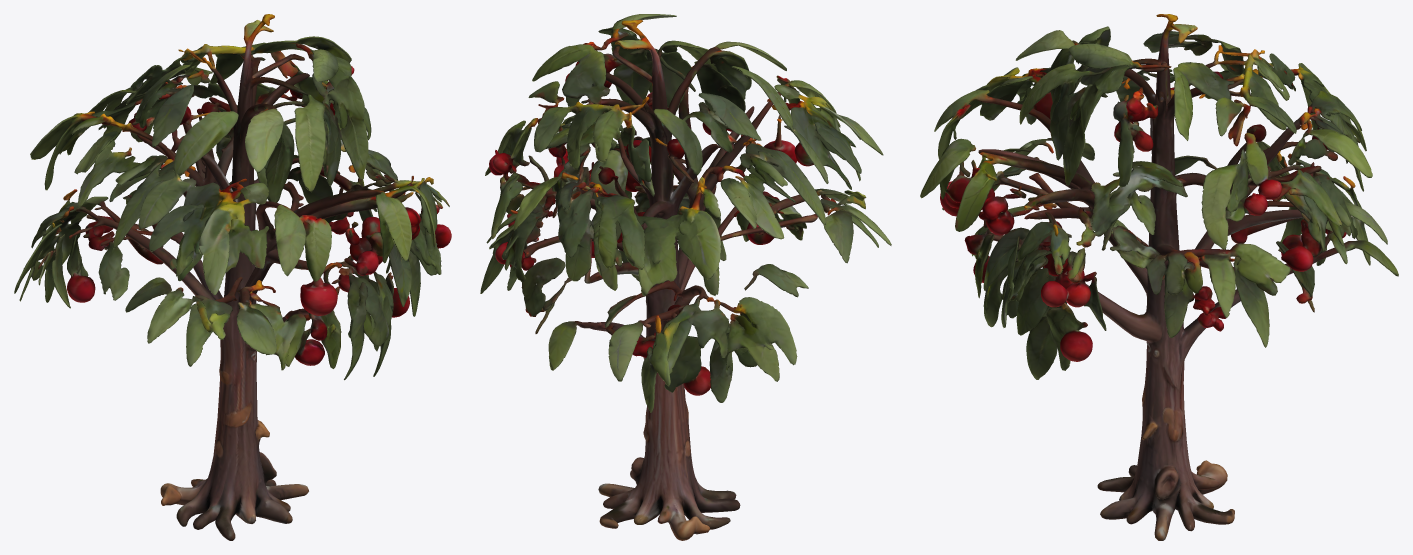
File: nature-tree-cherry.glb
3 renders of one model, left to right at view 1: azimuth 30°, elevation 25°; view 2: azimuth 150°, elevation 25°; view 3: azimuth 270°, elevation 25°, orthographic. The views are drawn at different scales.
Visible parts, largest first — view 1: tripo_node_45f7b6af-17fc-4bf0-af39-2dadda0ac1e1; view 2: tripo_node_45f7b6af-17fc-4bf0-af39-2dadda0ac1e1; view 3: tripo_node_45f7b6af-17fc-4bf0-af39-2dadda0ac1e1.
Part boxes in pixels (box(x1,y1,x2,y2)): tripo_node_45f7b6af-17fc-4bf0-af39-2dadda0ac1e1: box(14, 14, 451, 540); tripo_node_45f7b6af-17fc-4bf0-af39-2dadda0ac1e1: box(480, 14, 891, 540); tripo_node_45f7b6af-17fc-4bf0-af39-2dadda0ac1e1: box(920, 14, 1398, 540).
Size of the model in its own units: 4.38 by 6 by 5.09.
Materials: 1 (1 with a texture image).
